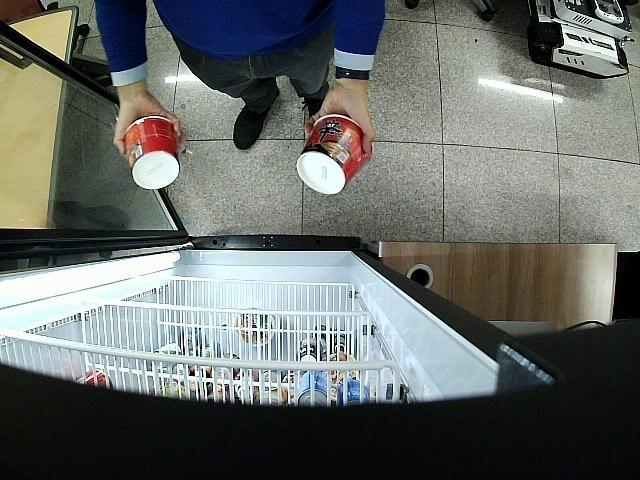01_ShinRamen_L: (296, 114, 372, 195), (124, 117, 180, 190)
